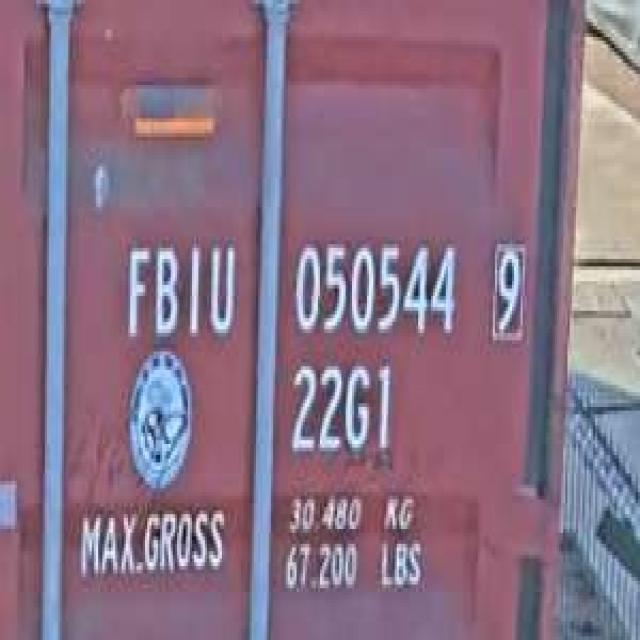dv: (484, 229, 529, 348)
owner: (117, 229, 239, 348)
serial: (286, 229, 461, 348)
size: (284, 355, 394, 466)
